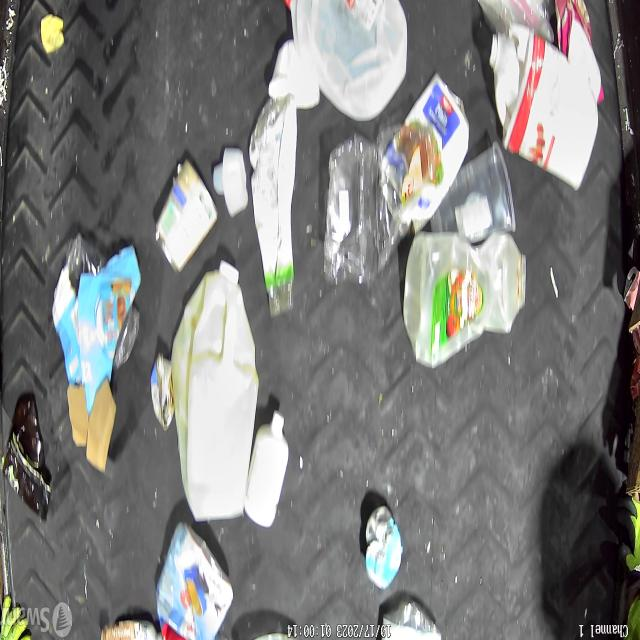can: (150, 354, 174, 430)
milk_jug: (171, 261, 259, 522), (281, 0, 407, 121)
non_white_jug: (402, 232, 526, 370), (380, 74, 470, 232), (554, 0, 604, 106)
